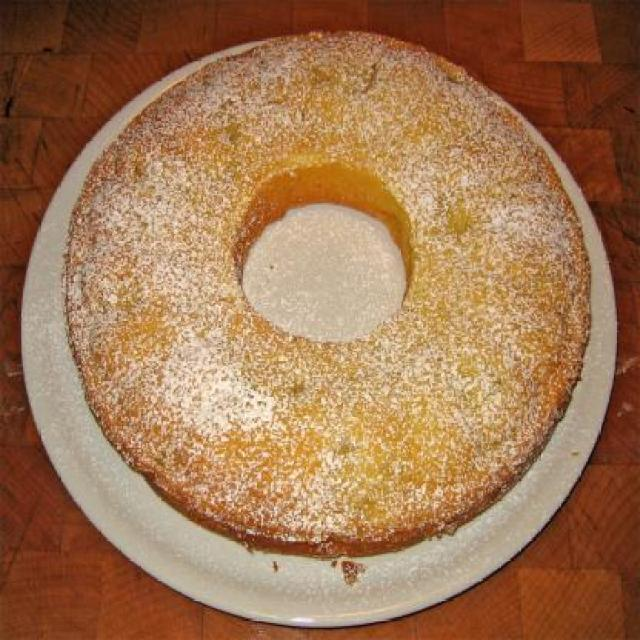Bagel: (64, 27, 596, 551)
